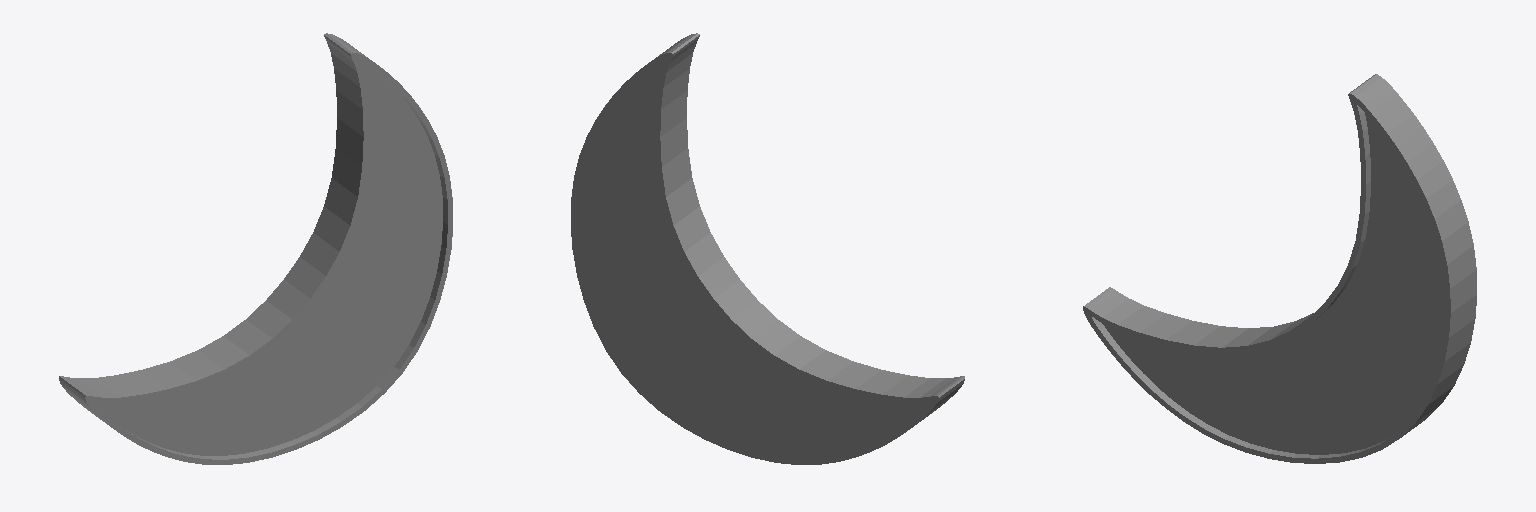
Rendered from Moon_night.obj.
The picture shows the model from 3 angles: view 1: azimuth 30°, elevation 25°; view 2: azimuth 150°, elevation 25°; view 3: azimuth 330°, elevation 25°; orthographic projection.
Visible parts, largest first — view 1: Moon_nightlight_LP_Plane_020; view 2: Moon_nightlight_LP_Plane_020; view 3: Moon_nightlight_LP_Plane_020.
Part boxes in pixels (x1,y1,x2,y2): Moon_nightlight_LP_Plane_020: (59, 33, 452, 464); Moon_nightlight_LP_Plane_020: (571, 33, 964, 464); Moon_nightlight_LP_Plane_020: (1083, 74, 1476, 463).
Bounding box in the file's own units: 0.24 × 0.24 × 0.03.